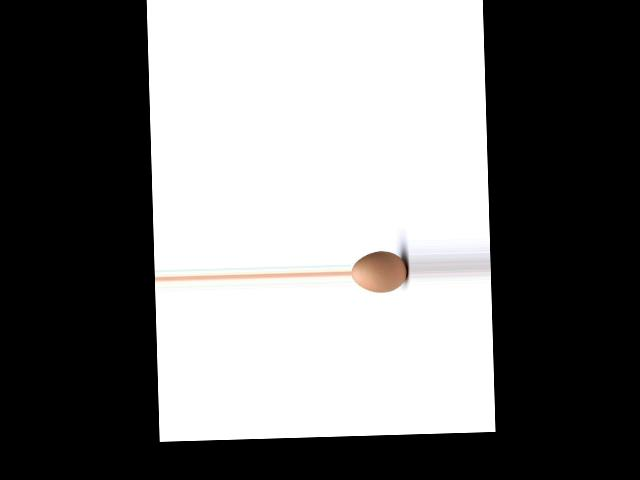egg: (351, 251, 408, 293)
